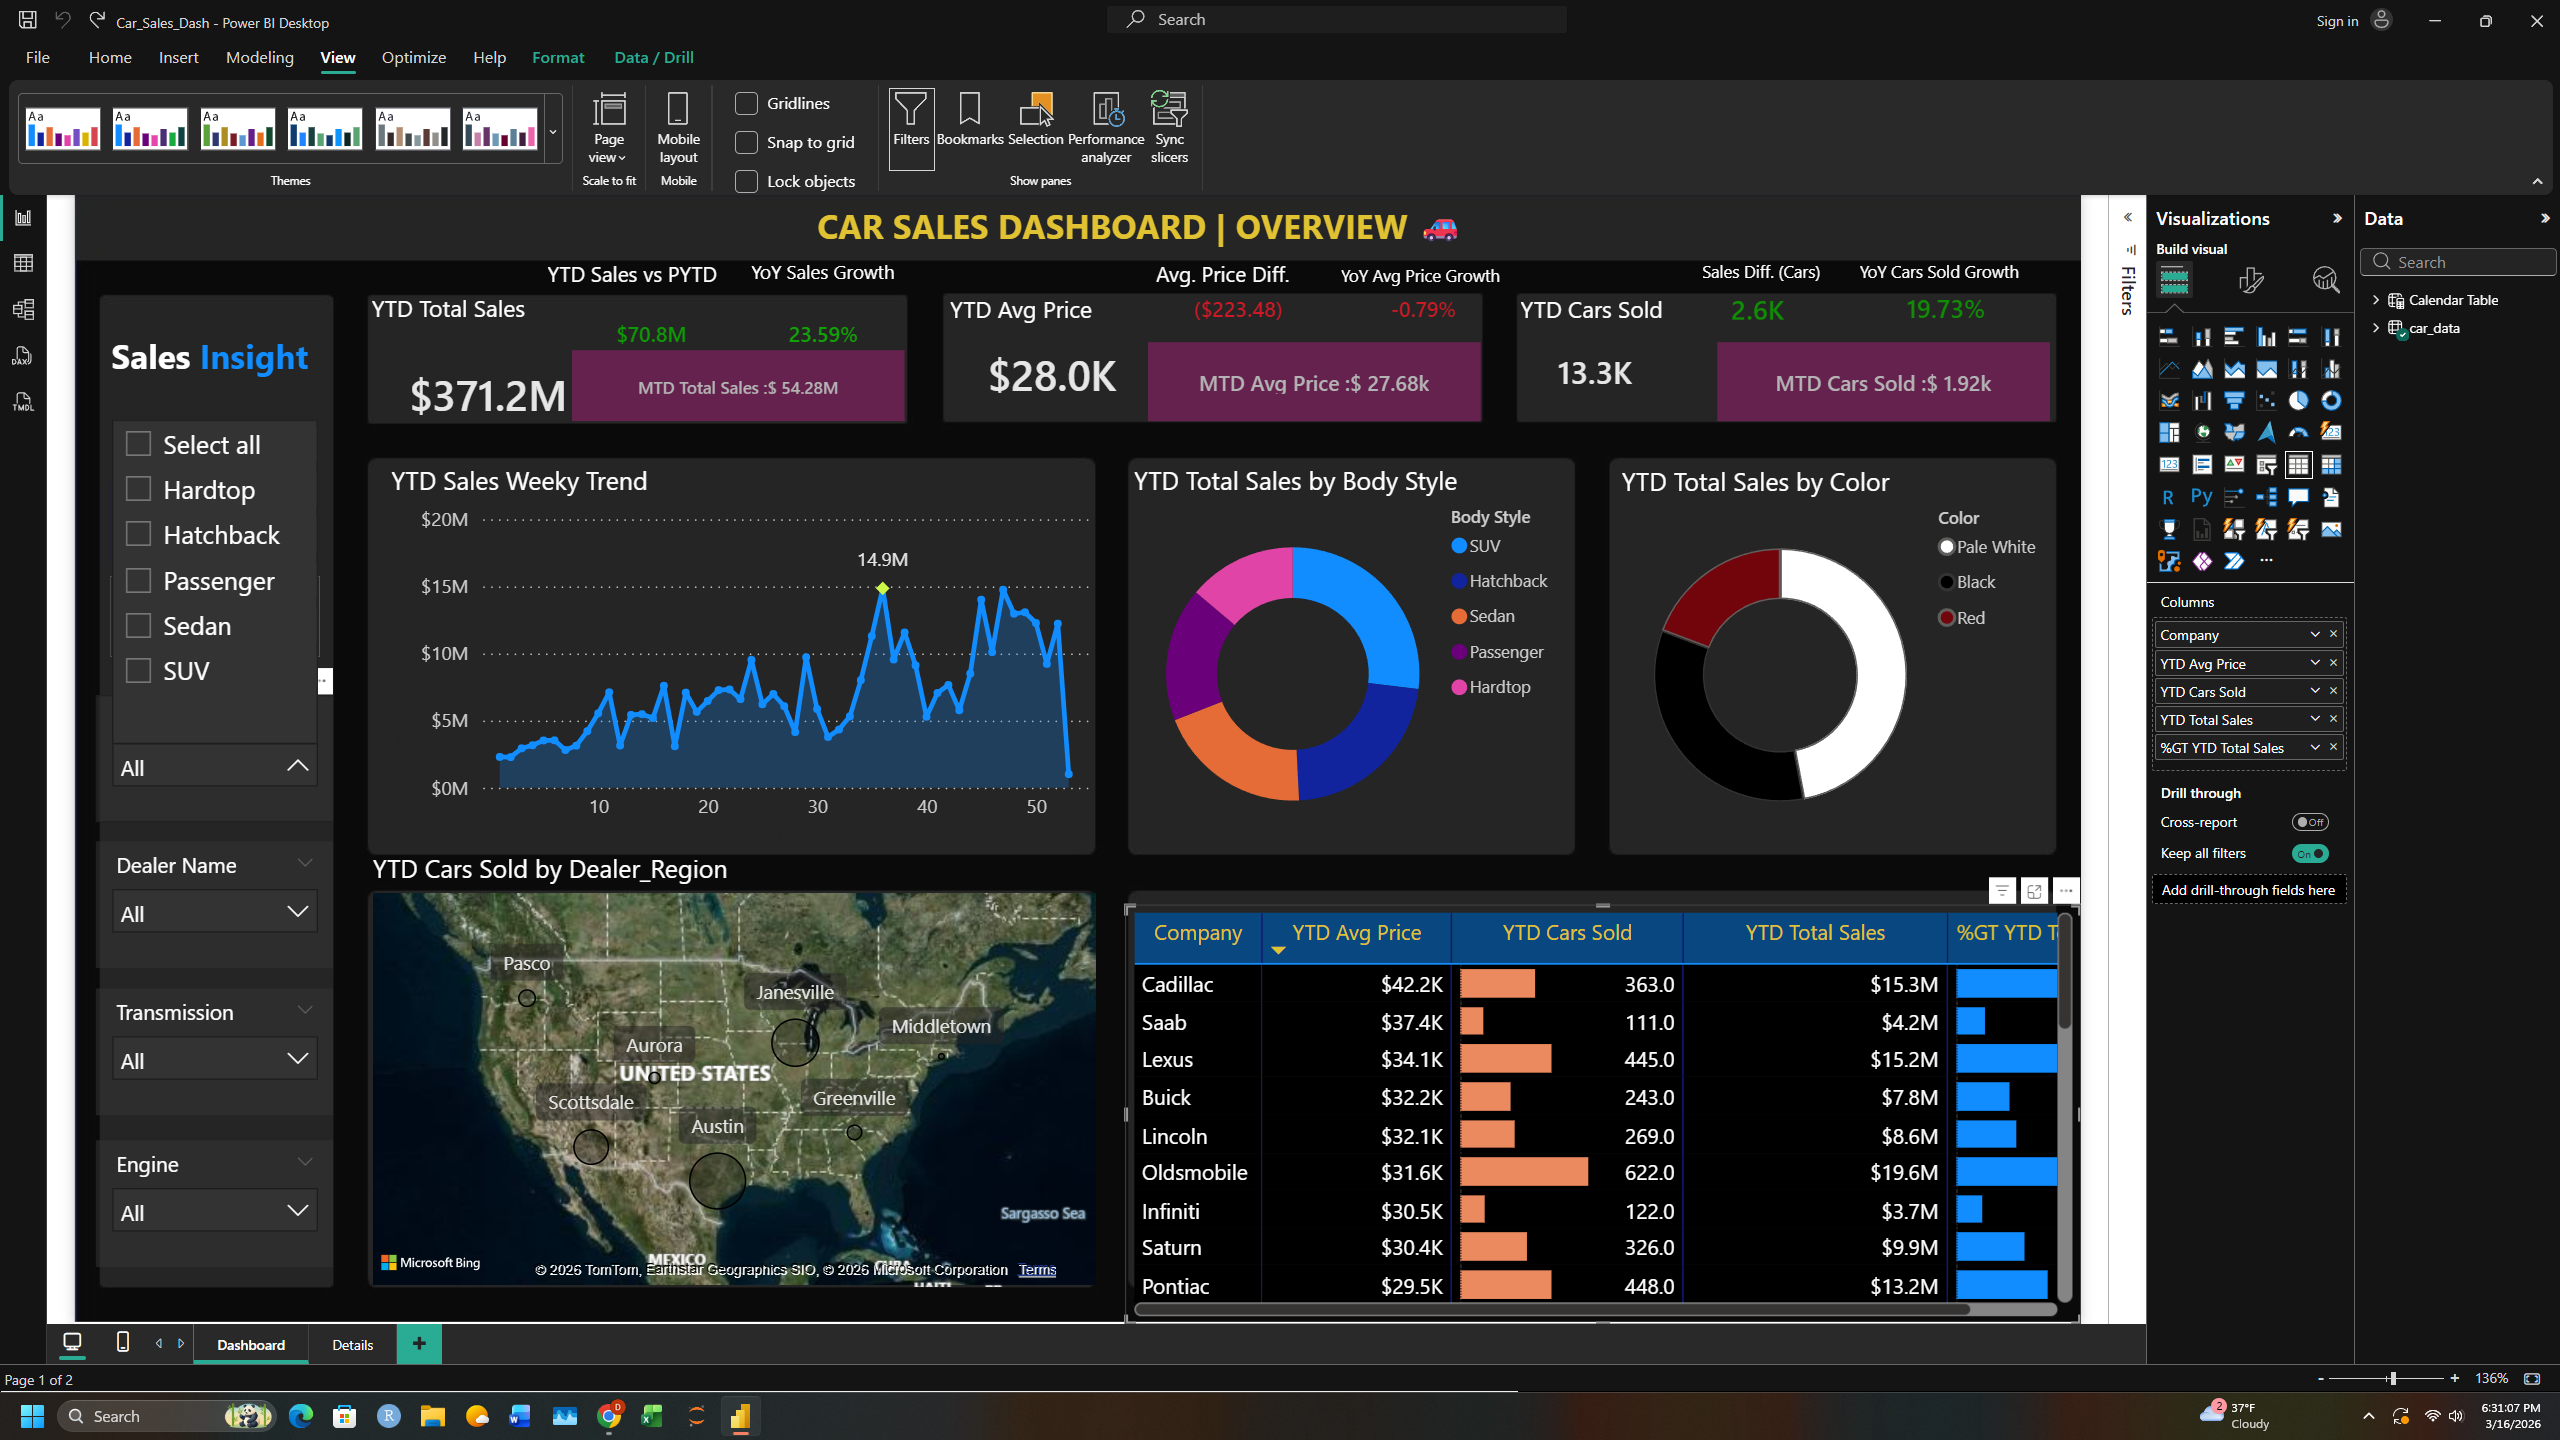

The dashboard page shown, as its layout file describes it:
{"tool":"powerbi","page":{"name":"Dashboard","canvas":[1280,720],"ordinal":0},"visuals":[{"type":"cardVisual","title":"YTD Total Sales","fields":{"Data":["car_data.YTD Total Sales"]},"box":[185,62,161,109],"z":0},{"type":"cardVisual","fields":{"Data":["car_data.Sales Difference"]},"box":[317,61,110,52],"z":1000},{"type":"cardVisual","fields":{"Data":["car_data.MTD KPI"]},"box":[318,99,212,45],"z":2000},{"type":"cardVisual","fields":{"Data":["car_data.YoY Sales Growth"]},"box":[427,62,110,49],"z":3000},{"type":"cardVisual","title":"YTD Avg Price ","fields":{"Data":["car_data.YTD Avg Price"]},"box":[554,63,149,81],"z":4000},{"type":"cardVisual","fields":{"Data":["car_data.Avg Price Diff"]},"box":[682,43,121,56],"z":5000},{"type":"cardVisual","fields":{"Data":["car_data.YoY Avg Price Growth"]},"box":[803,43,115,56],"z":6000},{"type":"cardVisual","fields":{"Data":["car_data.MTD Avg Price KPI"]},"box":[685,94,212,50],"z":7000},{"type":"textbox","box":[427,34,127,29],"z":8000},{"type":"cardVisual","title":"YTD Cars Sold","fields":{"Data":["car_data.YTD Cars Sold"]},"box":[918,63,106,78],"z":9000},{"type":"cardVisual","fields":{"Data":["car_data.Cars Sold Difference"]},"box":[1024,45,100,52],"z":10000},{"type":"textbox","box":[1034,15,100,48],"z":11000},{"type":"textbox","box":[685,35,127,29],"z":12000},{"type":"textbox","box":[803,35,116,29],"z":13000},{"type":"textbox","box":[297,35,127,29],"z":14000},{"type":"cardVisual","fields":{"Data":["car_data.YoY Cars Sold Growth"]},"box":[1134,45,120,52],"z":15000},{"type":"textbox","box":[1134,15,126,49],"z":16000},{"type":"cardVisual","fields":{"Data":["car_data.MTD Cars Sold KPI"]},"box":[1048,94,212,50],"z":17000},{"type":"areaChart","title":"YTD Sales Weeky Trend ","fields":{"Category":["Calendar Table.Week"],"Y":["Sum(car_data.Price ($))","car_data.Max Point"]},"box":[197,171,459,247],"z":18000},{"type":"donutChart","fields":{"Category":["car_data.Body Style"],"Y":["car_data.YTD Total Sales"]},"box":[671,171,283,247],"z":19000},{"type":"donutChart","fields":{"Y":["car_data.YTD Total Sales"],"Category":["car_data.Color"]},"box":[982,172,283,247],"z":20000},{"type":"map","fields":{"Category":["car_data.Dealer_Region"],"Size":["car_data.YTD Cars Sold"]},"box":[185.4,417.9,470.7,282.9],"z":21000},{"type":"tableEx","fields":{"Values":["car_data.Company","car_data.YTD Avg Price","car_data.YTD Cars Sold","car_data.YTD Total Sales","Divide(car_data.YTD Total Sales, ScopedEval(car_data.YTD Total Sales, []))"]},"box":[670.7,452.5,609.1,267.7],"z":22000},{"type":"textbox","box":[438.4,0,488.9,74.7],"z":22001},{"type":"slicer","fields":{"Values":["car_data.Body Style"]},"box":[14.1,319.2,151.5,80.8],"z":22002},{"type":"slicer","fields":{"Values":["car_data.Dealer_Name"]},"box":[14.1,412.1,151.5,80.8],"z":22003},{"type":"slicer","fields":{"Values":["car_data.Transmission"]},"box":[14.1,506.1,151.5,80.8],"z":22004},{"type":"slicer","fields":{"Values":["car_data.Engine"]},"box":[14.1,603,151.5,80.8],"z":22005},{"type":"pageNavigator","box":[23.2,182.8,133.3,112.1],"z":22006},{"type":"textbox","box":[60.6,148.5,65.7,46.5],"z":22007},{"type":"textbox","box":[14.1,82.8,151.5,40.4],"z":22008}]}

Visuals, with their boxes on the page's 1280x720 design canvas (x1, y1, x2, y2). These are canvas units, not pixel positions in the 2560x1440 screenshot, which may show the page scaled, cropped or inside an application window:
"YTD Total Sales" cardVisual: <box>185,62,346,171</box>
cardVisual - car_data.Sales Difference: <box>317,61,427,113</box>
cardVisual - car_data.MTD KPI: <box>318,99,530,144</box>
cardVisual - car_data.YoY Sales Growth: <box>427,62,537,111</box>
"YTD Avg Price " cardVisual: <box>554,63,703,144</box>
cardVisual - car_data.Avg Price Diff: <box>682,43,803,99</box>
cardVisual - car_data.YoY Avg Price Growth: <box>803,43,918,99</box>
cardVisual - car_data.MTD Avg Price KPI: <box>685,94,897,144</box>
textbox: <box>427,34,554,63</box>
"YTD Cars Sold" cardVisual: <box>918,63,1024,141</box>
cardVisual - car_data.Cars Sold Difference: <box>1024,45,1124,97</box>
textbox: <box>1034,15,1134,63</box>
textbox: <box>685,35,812,64</box>
textbox: <box>803,35,919,64</box>
textbox: <box>297,35,424,64</box>
cardVisual - car_data.YoY Cars Sold Growth: <box>1134,45,1254,97</box>
textbox: <box>1134,15,1260,64</box>
cardVisual - car_data.MTD Cars Sold KPI: <box>1048,94,1260,144</box>
"YTD Sales Weeky Trend " areaChart: <box>197,171,656,418</box>
donutChart - car_data.Body Style x car_data.YTD Total Sales: <box>671,171,954,418</box>
donutChart - car_data.YTD Total Sales x car_data.Color: <box>982,172,1265,419</box>
map - car_data.Dealer_Region x car_data.YTD Cars Sold: <box>185,418,656,701</box>
tableEx - car_data.Company x car_data.YTD Avg Price: <box>671,452,1280,720</box>
textbox: <box>438,0,927,75</box>
slicer - car_data.Body Style: <box>14,319,166,400</box>
slicer - car_data.Dealer_Name: <box>14,412,166,493</box>
slicer - car_data.Transmission: <box>14,506,166,587</box>
slicer - car_data.Engine: <box>14,603,166,684</box>
pageNavigator: <box>23,183,156,295</box>
textbox: <box>61,148,126,195</box>
textbox: <box>14,83,166,123</box>
